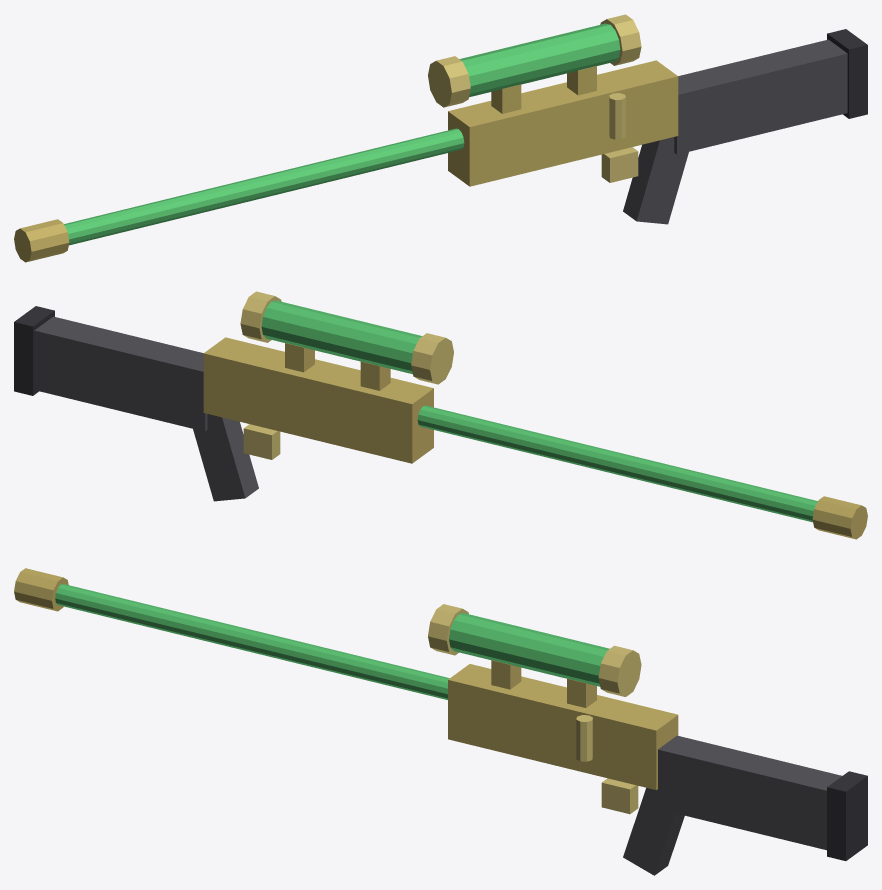
File: zehir_nisanci.glb
The picture shows the model from 3 angles, top to bottom: view 1: azimuth 30°, elevation 25°; view 2: azimuth 150°, elevation 25°; view 3: azimuth 330°, elevation 25°; orthographic projection.
Visible parts, largest first — view 1: geometry_0; view 2: geometry_0; view 3: geometry_0.
Part boxes in pixels (<box>): geometry_0: <box>14,14,867,262</box>; geometry_0: <box>14,291,867,539</box>; geometry_0: <box>14,568,867,875</box>.
Size of the model in its own units: 0.88 by 0.2118 by 0.06.
